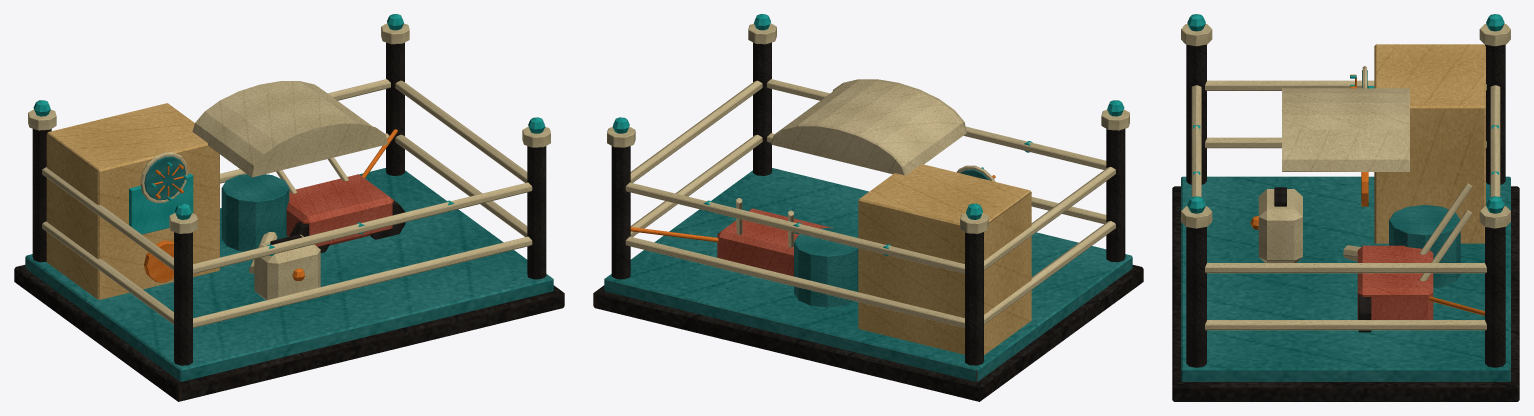
Rendered from appliance-pen.glb.
3 renders of one model, left to right at view 1: azimuth 30°, elevation 25°; view 2: azimuth 150°, elevation 25°; view 3: azimuth 270°, elevation 25°, orthographic. The views are drawn at different scales.
Parts seen in each view (by area): view 1: AppliancePenE6; view 2: AppliancePenE6; view 3: AppliancePenE6.
Part boxes in pixels (x1=…): AppliancePenE6: x1=14, y1=14, x2=564, y2=401; AppliancePenE6: x1=593, y1=14, x2=1143, y2=401; AppliancePenE6: x1=1172, y1=14, x2=1519, y2=401.
Bounding box in the file's own units: 4.5 × 2.11 × 3.3.
1 material, 1 textured.
